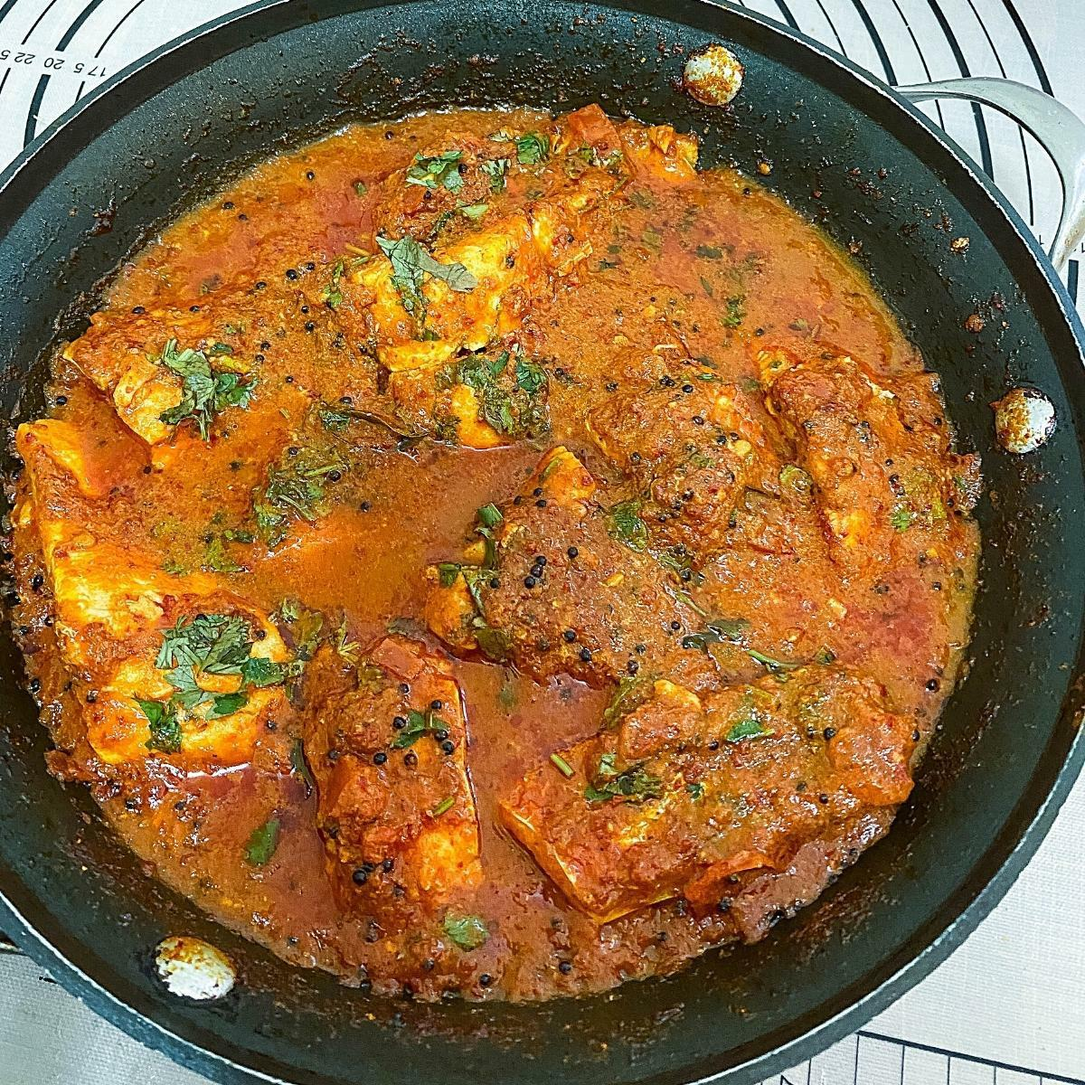FishCurry: (0, 101, 963, 992)
